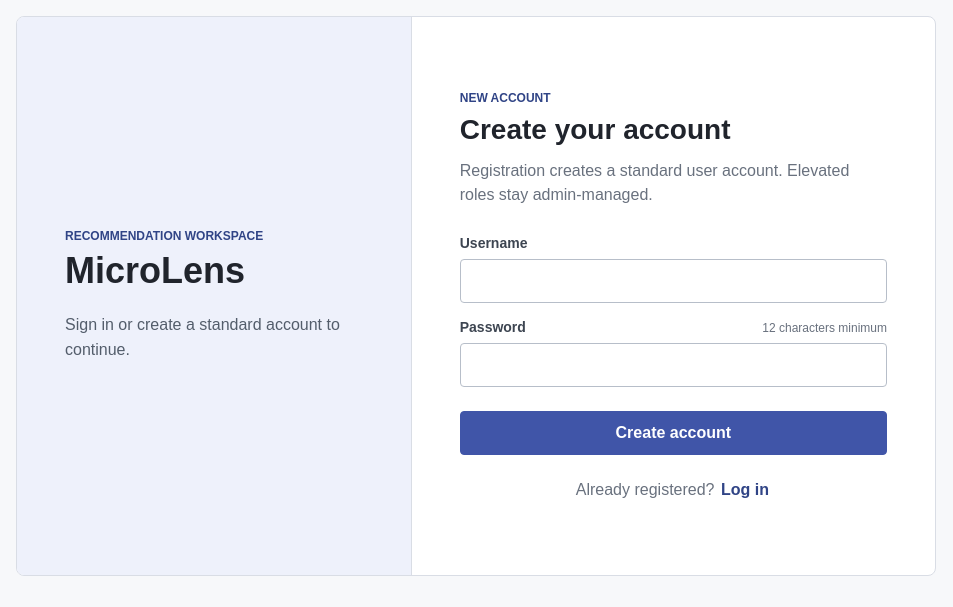
it: session hydration and protected routing › registration submits only username and password, never a role
Expected: the heading "Create your account" is shown, [460,114,730,145]
Type "new-user" into the field labelled "Username" at (673, 281), box [460,259,887,303]
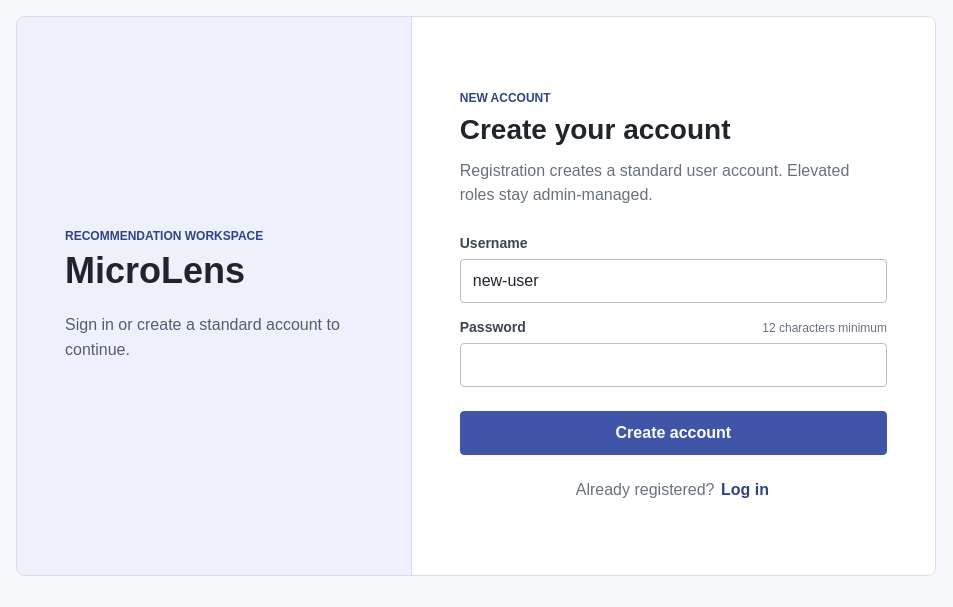
Type "secure-password" into the password field labelled "Password" at (673, 365), box [460,343,887,387]
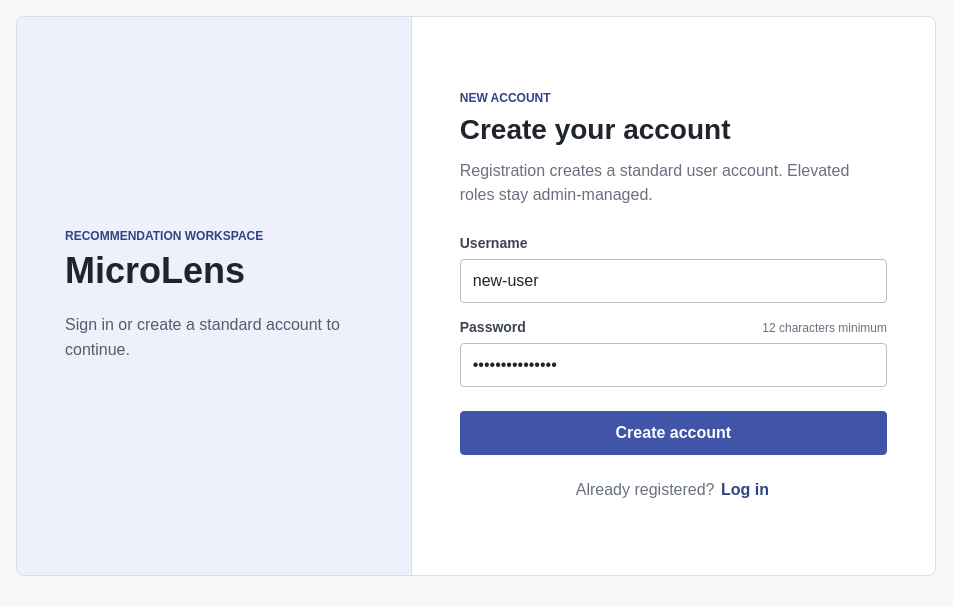
Click the button "Create account" at (673, 433), box [460,411,887,455]
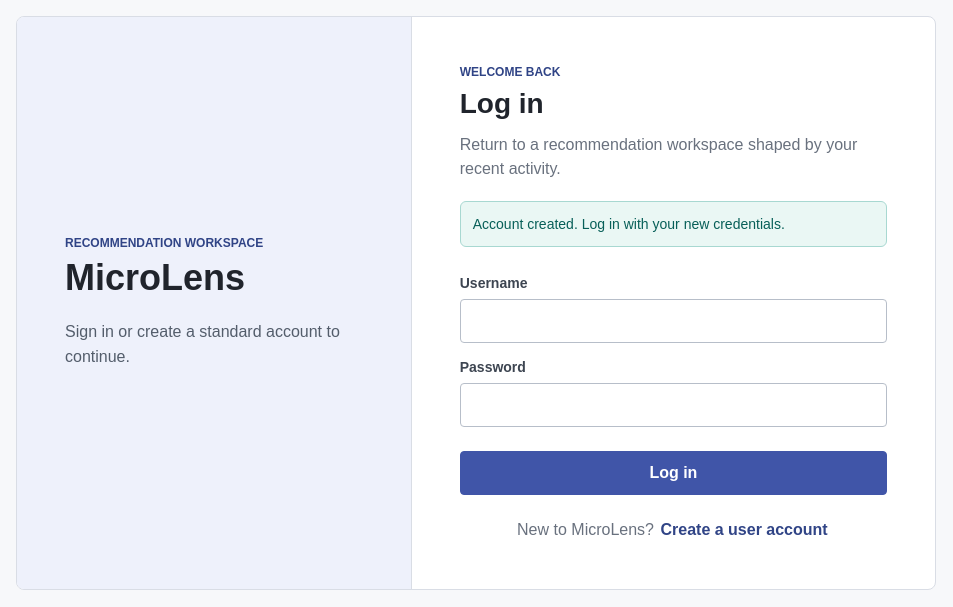
Expected: the text "Account created. Log in with your new credentials." is shown, [460,201,887,247]
